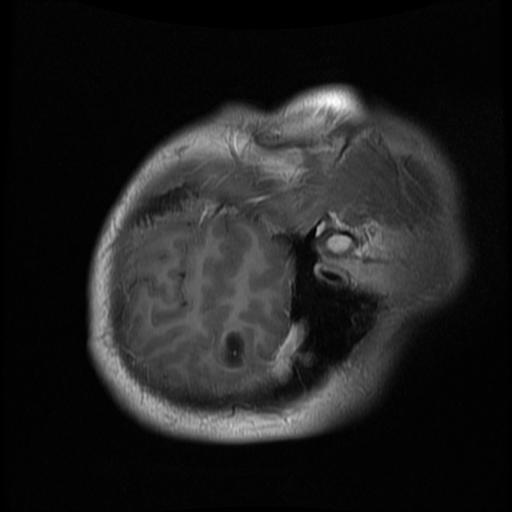glioma: (267, 317, 307, 383)
